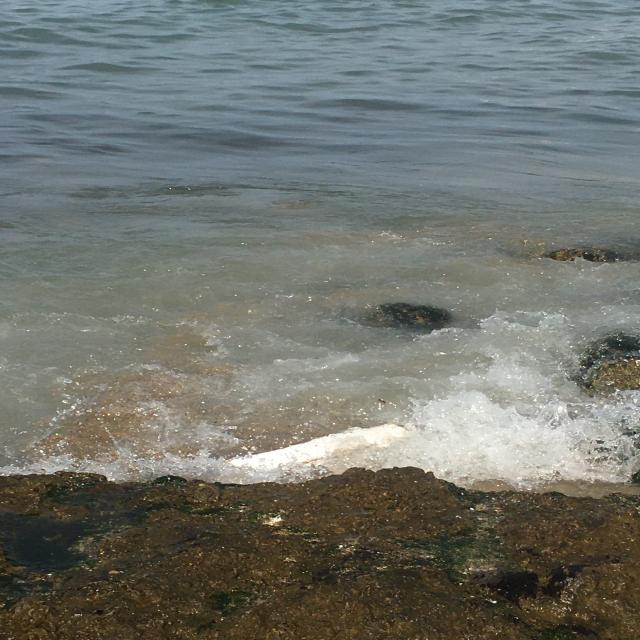Wood: (227, 420, 413, 470)
